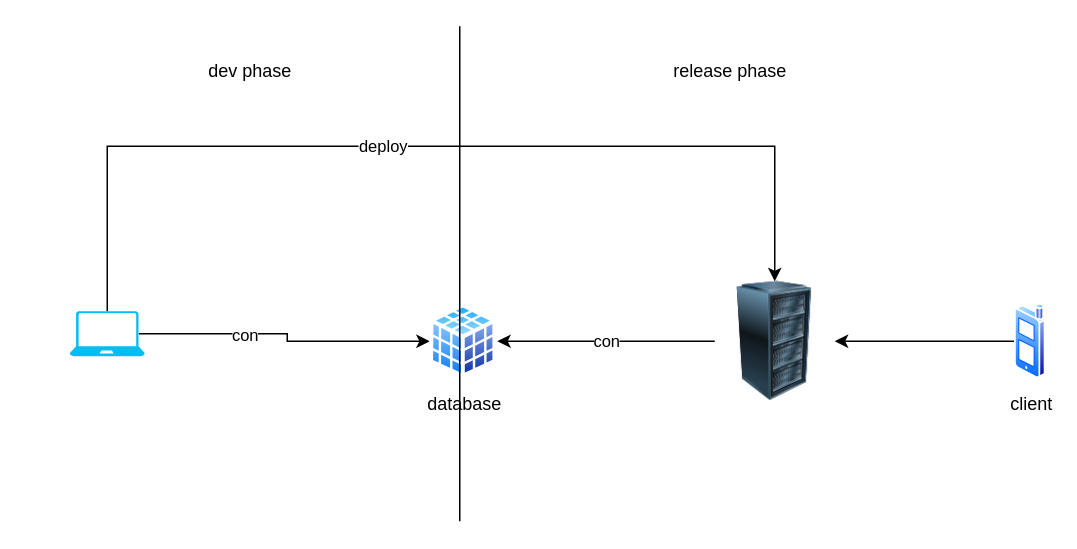
Image size: 1077x549. Some labels were removed from this diagram. The shapes that lost their labels are listed below. From the top down, each one's centre as x and y in pixels, then its label:
At pixel 106 333: "Dev(Server + Client)".
At pixel 774 340: "server".
